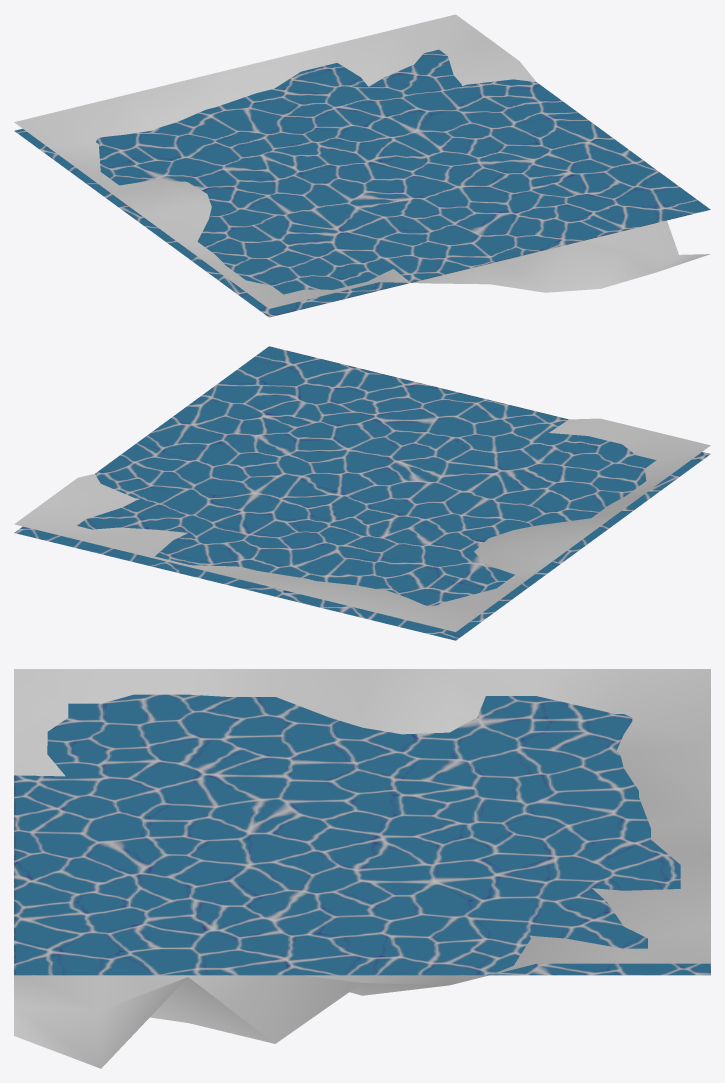
The model's file is CornerWaterTile.fbx.
The picture shows the model from 3 angles, top to bottom: view 1: azimuth 30°, elevation 25°; view 2: azimuth 150°, elevation 25°; view 3: azimuth 270°, elevation 25°; orthographic projection. The views are drawn at different scales.
Parts seen in each view (by area): view 1: WaterHole_Corner; view 2: WaterHole_Corner; view 3: WaterHole_Corner.
Part boxes in pixels (x1,y1,x2,y2): WaterHole_Corner: (14,14,710,317); WaterHole_Corner: (14,346,710,640); WaterHole_Corner: (14,669,710,1068).
Bounding box in the file's own units: 100 × 16.66 × 100.
